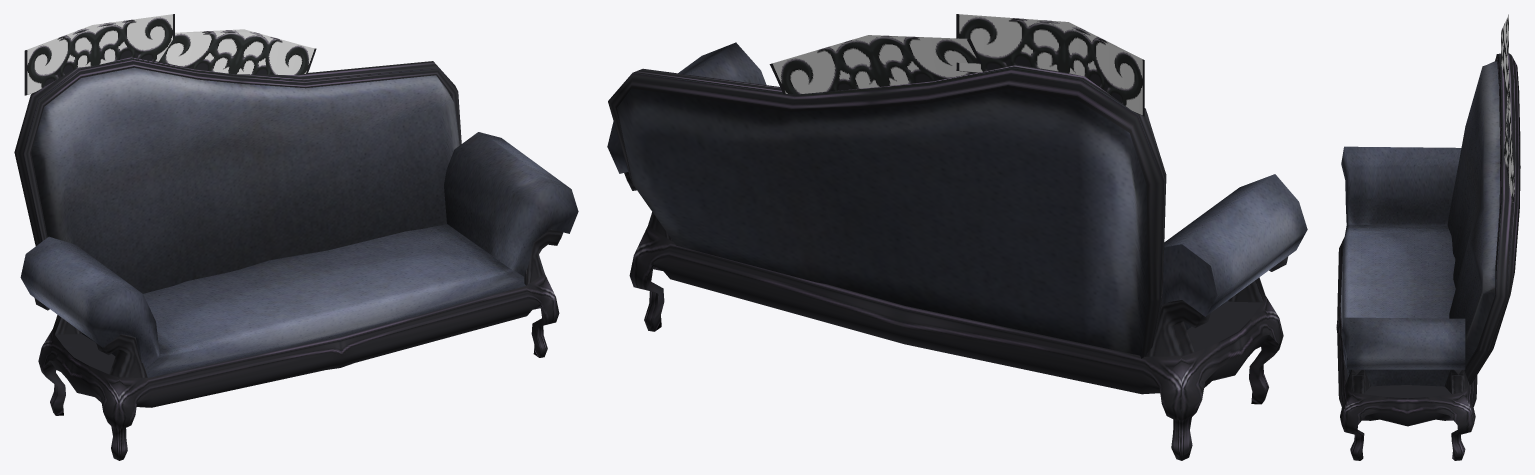
File: GothicSofa_HD.fbx
3 views of the same model, side by side, from view 1: azimuth 30°, elevation 25°; view 2: azimuth 150°, elevation 25°; view 3: azimuth 270°, elevation 25° (orthographic). The views are drawn at different scales.
Visible parts, largest first — view 1: GothicSofa; view 2: GothicSofa; view 3: GothicSofa.
Part boxes in pixels (box(x1,y1,x2,y2)): GothicSofa: box(14, 14, 578, 460); GothicSofa: box(607, 14, 1307, 460); GothicSofa: box(1336, 14, 1520, 460).
Size of the model in its own units: 1.99 by 1.37 by 0.8003.
